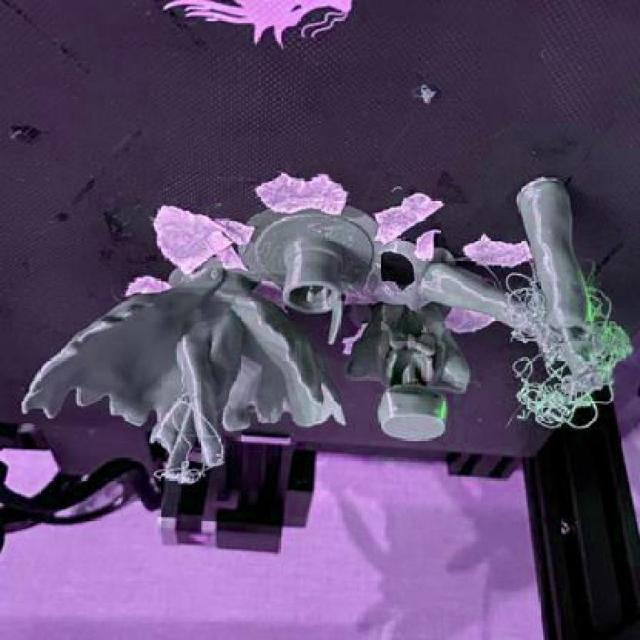Spaghetti: (496, 270, 633, 432), (147, 397, 228, 489)
